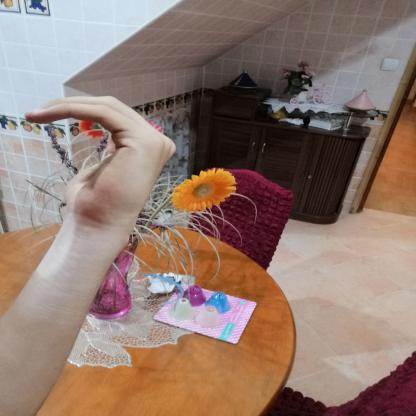HAA: (13, 83, 187, 233)
